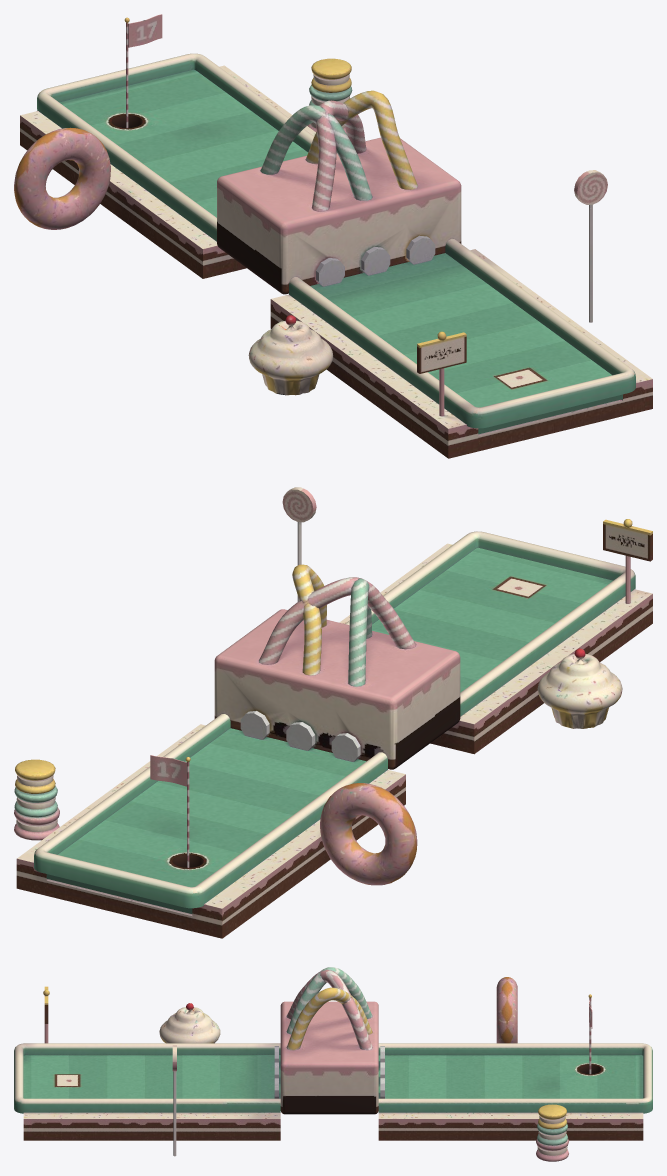
Rendered from hole17.glb.
3 views of the same model, one above another, from view 1: azimuth 30°, elevation 25°; view 2: azimuth 150°, elevation 25°; view 3: azimuth 270°, elevation 25° (orthographic). The views are drawn at different scales.
Visible parts, largest first — view 1: PipingStation, Green, Rails, Base, GreenB, FrostingTubes, Decor4, Decor1, NozzleRings, HoleSign, Decor3, Decor2 (+1 smaller); view 2: GreenB, PipingStation, Base, Rails, Green, FrostingTubes, Decor4, Decor1, Decor3, NozzleRings, HoleSign, Flag (+1 smaller); view 3: Rails, Base, GreenB, Green, PipingStation, FrostingTubes, Decor1, Decor3, Decor4, NozzleRings, Decor2.
Boxes of the visible parts, <box> form: PipingStation: <box>217,137,461,294</box>; Green: <box>310,253,622,434</box>; Rails: <box>37,53,635,428</box>; Base: <box>20,65,652,458</box>; GreenB: <box>59,69,308,217</box>; FrostingTubes: <box>260,90,417,211</box>; Decor4: <box>14,127,110,229</box>; Decor1: <box>248,315,333,395</box>; NozzleRings: <box>316,235,435,286</box>; HoleSign: <box>417,331,466,416</box>; Decor3: <box>307,58,352,133</box>; Decor2: <box>574,170,607,322</box>; GreenB: <box>46,728,366,913</box>; PipingStation: <box>214,609,460,769</box>; Base: <box>16,543,652,938</box>; Rails: <box>34,531,635,908</box>; Green: <box>372,547,612,692</box>; FrostingTubes: <box>259,564,415,686</box>; Decor4: <box>320,783,417,885</box>; Decor1: <box>537,648,622,728</box>; Decor3: <box>14,759,59,840</box>; NozzleRings: <box>240,711,360,761</box>; HoleSign: <box>603,519,652,603</box>; Flag: <box>150,755,190,867</box>; Rails: <box>14,1043,652,1113</box>; Base: <box>23,1112,643,1140</box>; GreenB: <box>378,1055,643,1098</box>; Green: <box>23,1055,280,1098</box>; PipingStation: <box>280,1001,378,1114</box>; FrostingTubes: <box>286,967,372,1050</box>; Decor1: <box>159,1003,220,1043</box>; Decor3: <box>536,1104,568,1161</box>; Decor4: <box>496,977,517,1043</box>; NozzleRings: <box>274,1046,384,1098</box>; Decor2: <box>172,1045,176,1156</box>.
Size of what is drawn, in the model's own units: 4.04 by 1.9 by 8.46.
Materials: 1 (1 with a texture image).
